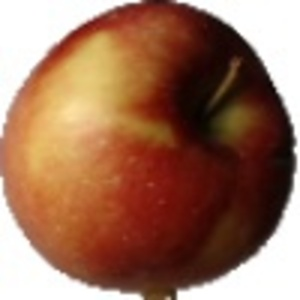maçã braeburn: (1, 1, 297, 292)
